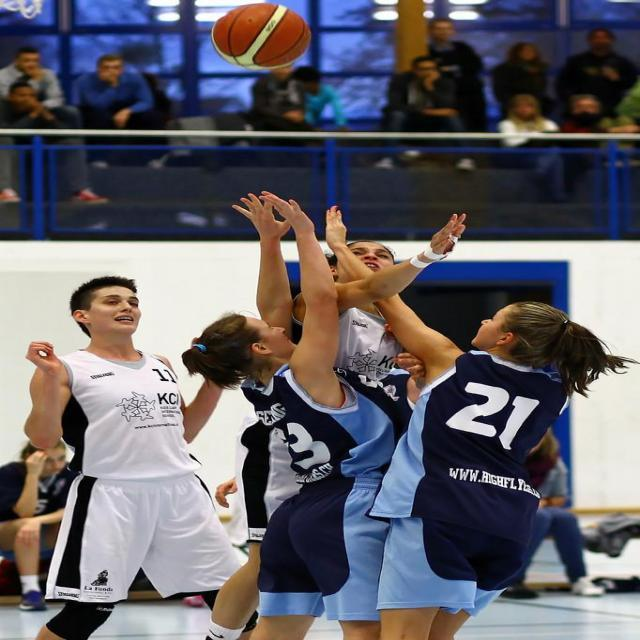rim: (212, 1, 317, 70)
